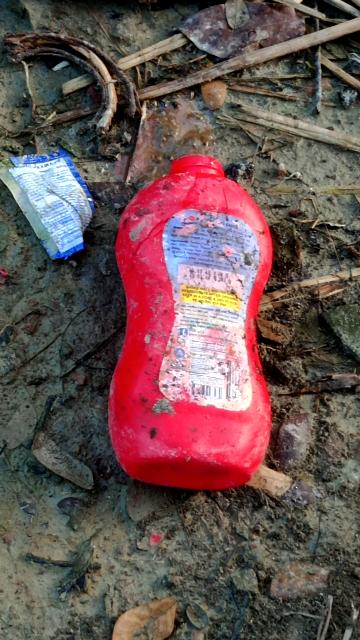bottle: (107, 140, 269, 487)
